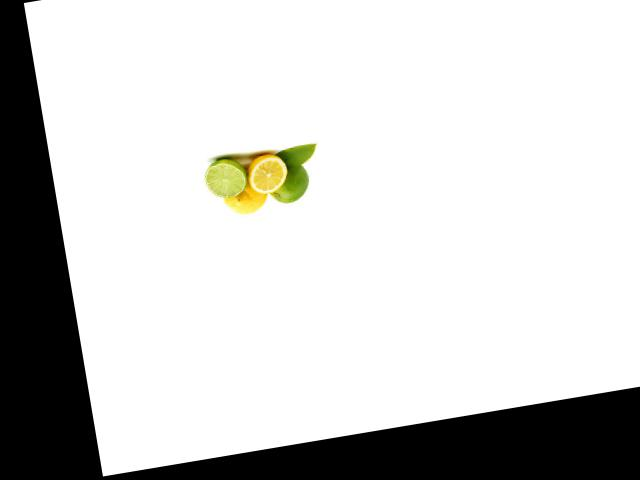lemon: (220, 178, 269, 220)
